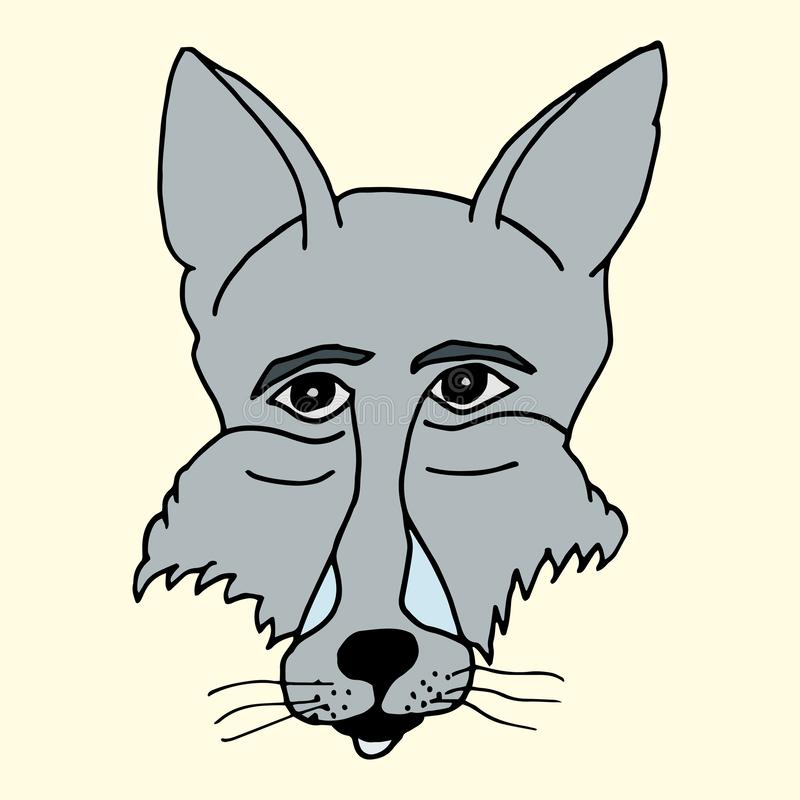Lobo: (82, 18, 722, 772)
